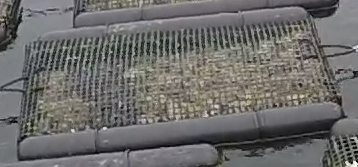bag: (16, 15, 342, 156)
